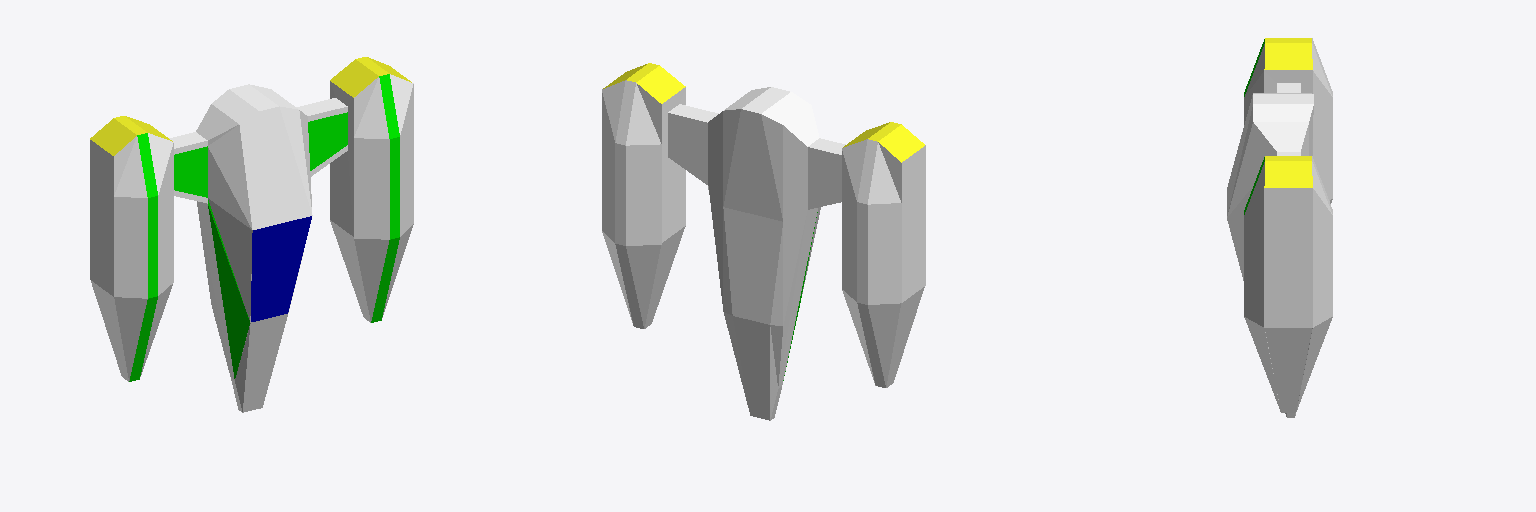
Rendered from ship2.obj.
3 renders of one model, left to right at view 1: azimuth 30°, elevation 25°; view 2: azimuth 150°, elevation 25°; view 3: azimuth 270°, elevation 25°, orthographic.
Parts seen in each view (by area): view 1: cube1.001; view 2: cube1.001; view 3: cube1.001.
Part boxes in pixels (x1,y1,x2,y2): cube1.001: (90,57,413,412); cube1.001: (602,63,925,420); cube1.001: (1227,38,1332,417).
Size of the model in its own units: 2.09 by 2.09 by 0.6426.